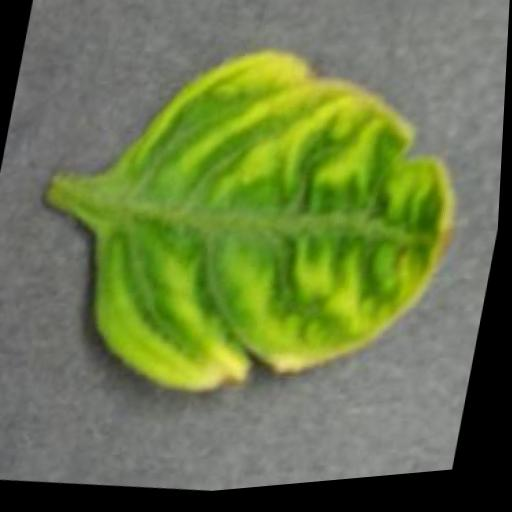Yellow Leaf Curl Virus: (72, 19, 492, 438)
